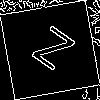Z: (25, 25, 76, 80)
